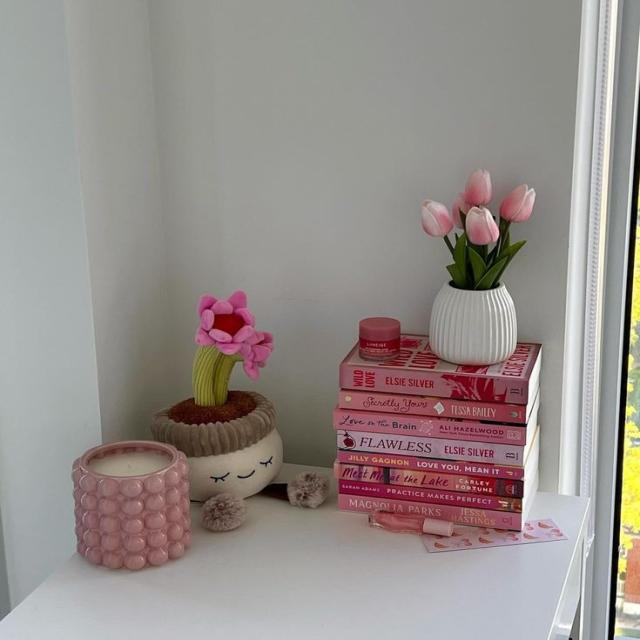book: (334, 407, 535, 445), (336, 367, 526, 404), (337, 431, 529, 467), (339, 495, 522, 531), (338, 389, 529, 423), (334, 464, 521, 498), (339, 480, 521, 513), (337, 451, 523, 480)
flowers: (421, 170, 534, 371)
